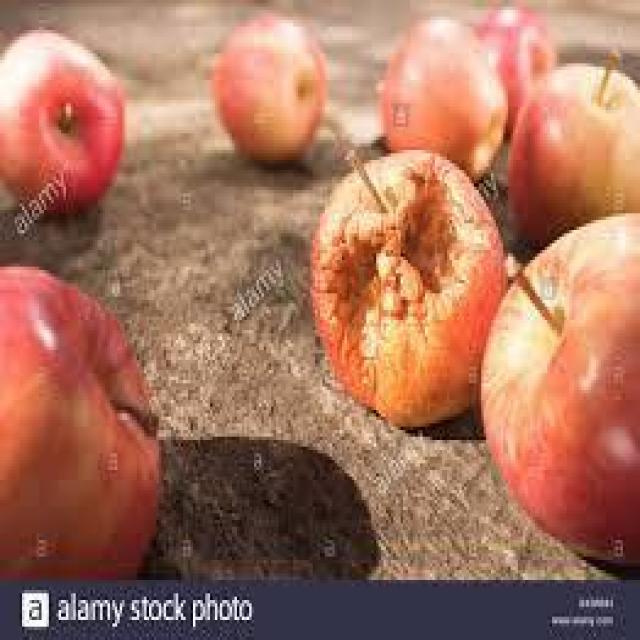maca: (478, 210, 638, 567), (308, 146, 506, 426), (0, 260, 161, 580), (0, 27, 125, 213)
